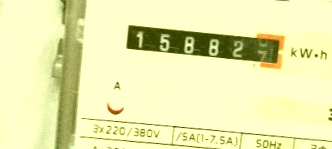1: (131, 28, 145, 48)
2: (230, 38, 244, 58)
5: (156, 31, 170, 52)
7: (254, 48, 267, 63)
8: (205, 36, 220, 58), (181, 33, 195, 55)
screen: (115, 10, 294, 77)
